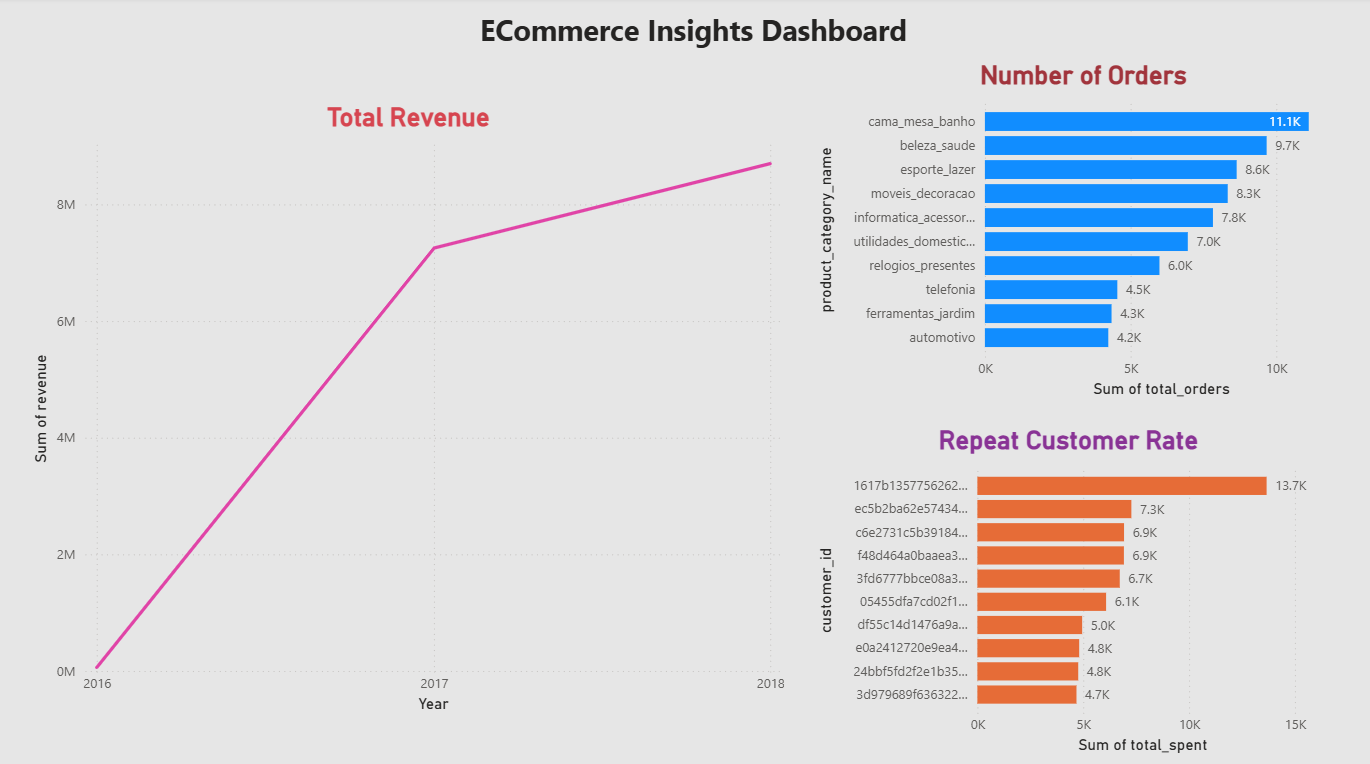

The page's visual inventory and layout, read from the dashboard file:
{"tool":"powerbi","page":{"name":"Page 1","canvas":[1280,720],"ordinal":0},"visuals":[{"type":"lineChart","title":"Total Revenue","fields":{"Category":["monthly_revenue.month.Variation.Date Hierarchy.Year","monthly_revenue.month.Variation.Date Hierarchy.Quarter","monthly_revenue.month.Variation.Date Hierarchy.Month","monthly_revenue.month.Variation.Date Hierarchy.Day"],"Y":["Sum(monthly_revenue.revenue)"]},"box":[29.1,97.7,709.3,573.3],"z":0},{"type":"barChart","title":"Number of Orders","fields":{"Y":["Sum(top_categories.total_orders)"],"Category":["top_categories.product_category_name"]},"box":[759.3,58.1,504.7,319.8],"z":1000},{"type":"barChart","title":"Repeat Customer Rate","fields":{"Category":["top_customers.customer_id"],"Y":["Sum(top_customers.total_spent)"]},"box":[759.3,397.7,476.7,311.6],"z":2000},{"type":"textbox","box":[383.7,7,530.2,51.2],"z":3000}]}

Visuals, with their boxes in screenshot pixels (x1, y1, x2, y2), scaled from the page's 1280x720 canvas onto the 1370x764 screenshot:
"Total Revenue" lineChart: <bbox>31, 104, 790, 712</bbox>
"Number of Orders" barChart: <bbox>813, 62, 1353, 401</bbox>
"Repeat Customer Rate" barChart: <bbox>813, 422, 1323, 753</bbox>
textbox: <bbox>411, 7, 978, 62</bbox>
